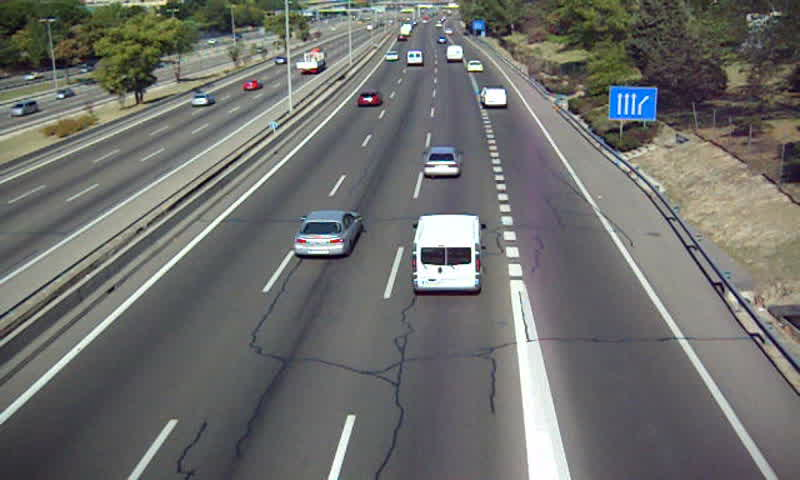car: (294, 210, 361, 257), (422, 147, 462, 178), (358, 90, 383, 105), (467, 59, 485, 73)
van: (412, 214, 482, 293), (479, 86, 506, 110), (405, 49, 423, 66), (446, 46, 464, 62)
